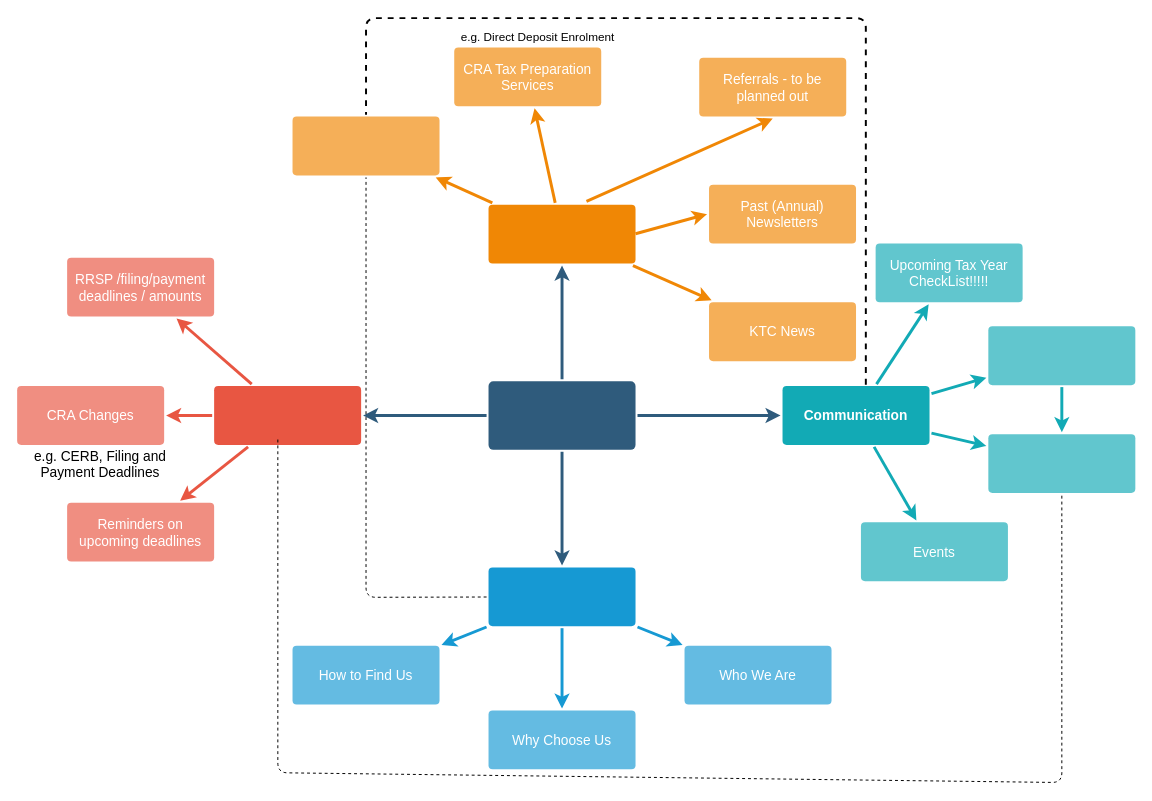
Some shapes in this 1152 by 801 pixel diagram are drawn without their labels. The shapes that lost their labels are listed below. From the top down, each one's box as (x1, y1, x2, y2) in pixels, then its label:
(292, 116, 439, 175): Office Hours
(488, 204, 635, 263): Marketing
(988, 326, 1135, 385): Upcoming (Annual) Newsletter
(214, 386, 361, 444): Breaking News
(488, 381, 635, 449): KTC Taxes Website
(988, 434, 1135, 492): What's New
(488, 567, 635, 626): Organization
